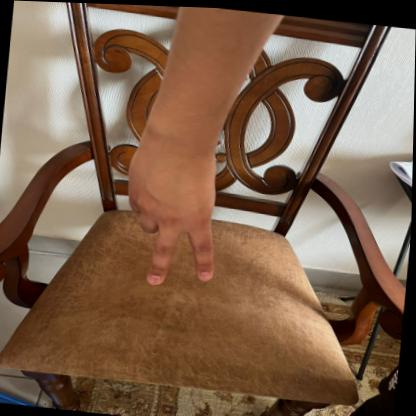N: (114, 118, 230, 293)
